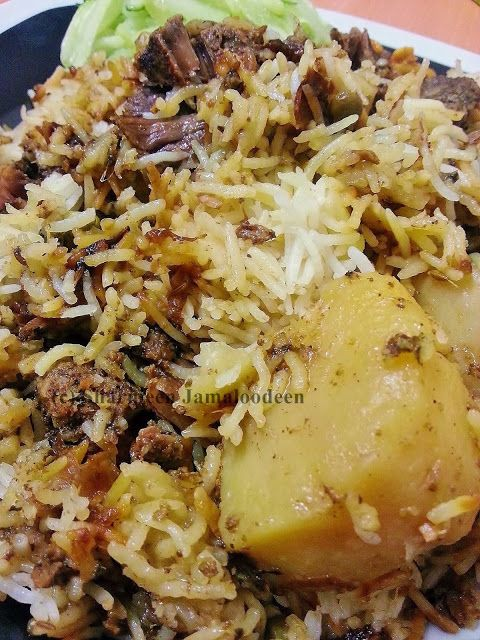Biryani: (5, 6, 479, 626)
